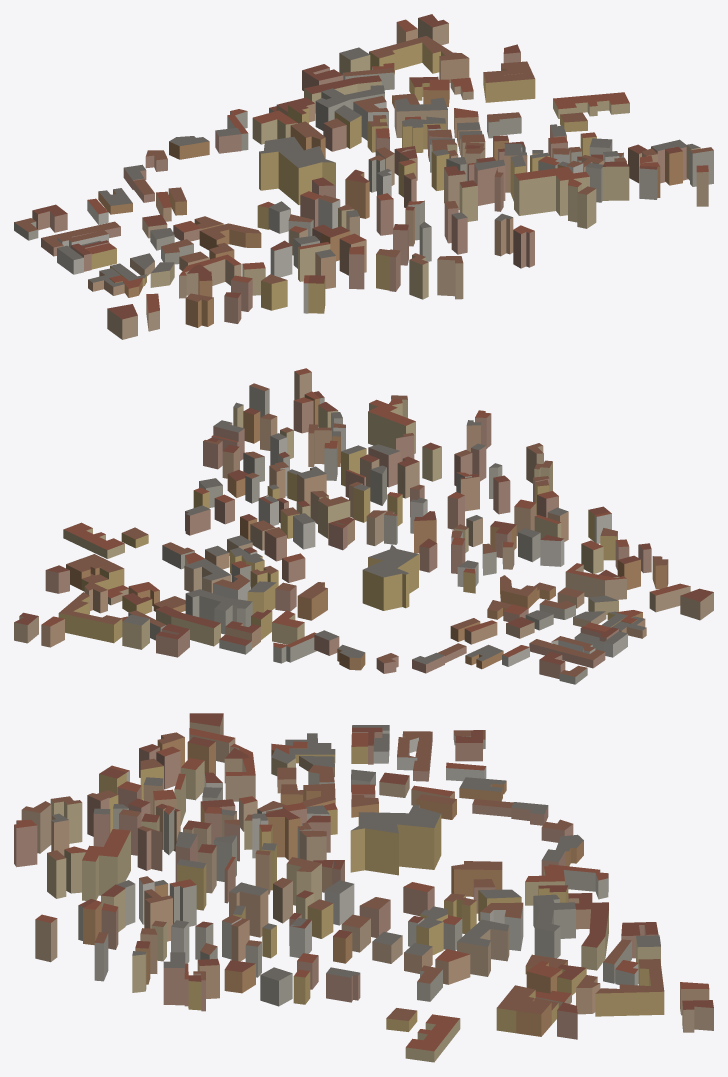
Rendered from SM_Fondale_Citta_NO_01_LOD1.fbx.
3 views of the same model, one above another, from view 1: azimuth 30°, elevation 25°; view 2: azimuth 150°, elevation 25°; view 3: azimuth 270°, elevation 25° (orthographic). The views are drawn at different scales.
Visible parts, largest first — view 1: SM_Fondale_Citta_NO_01_LOD1; view 2: SM_Fondale_Citta_NO_01_LOD1; view 3: SM_Fondale_Citta_NO_01_LOD1.
Boxes of the visible parts, left/top/right/bottom form: SM_Fondale_Citta_NO_01_LOD1: left=14, top=14, right=713, bottom=339; SM_Fondale_Citta_NO_01_LOD1: left=14, top=368, right=713, bottom=684; SM_Fondale_Citta_NO_01_LOD1: left=14, top=713, right=713, bottom=1062.
Bounding box in the file's own units: 59829 × 52487 × 8953.
